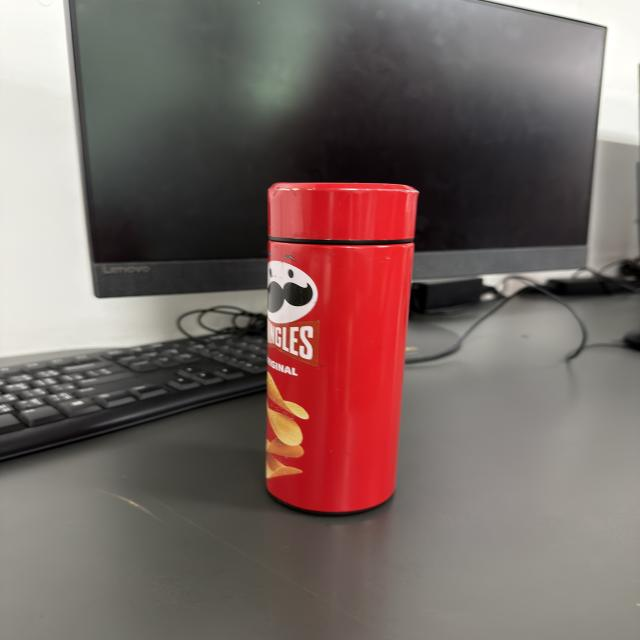water bottle: (257, 176, 422, 516)
